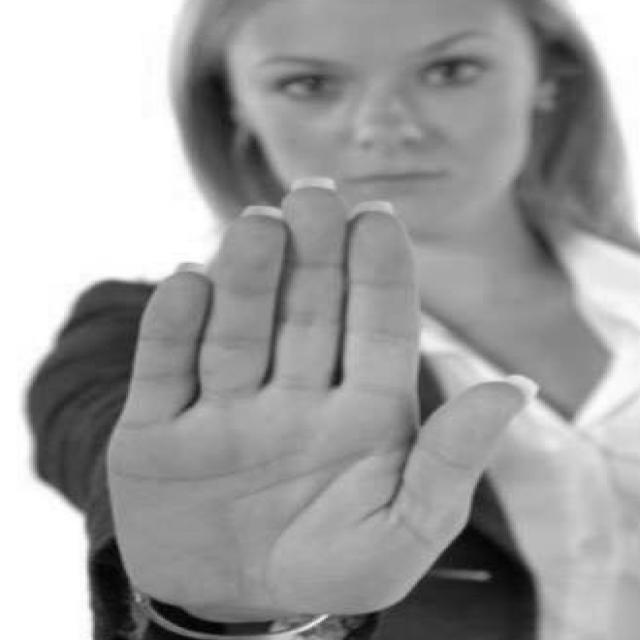stop: (93, 170, 544, 625)
